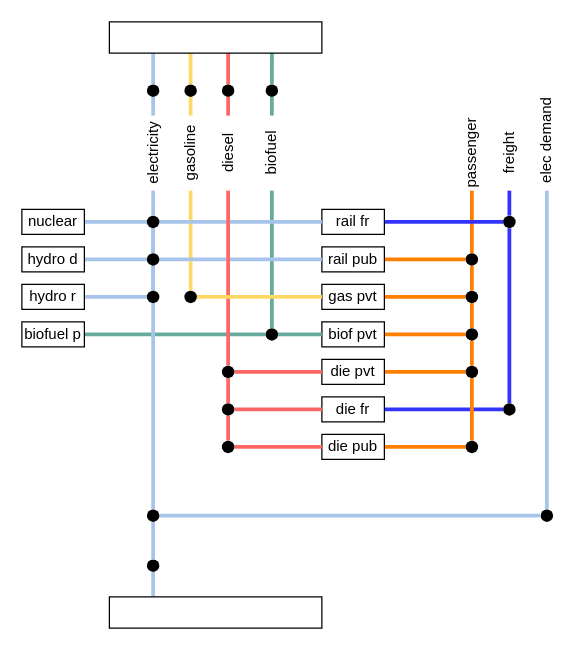
Image size: 588x650. Some labels were removed from this diagram. The shapes that lost their labels are listed below. From the top down, each one's centre as x and y in pixels, then its label:
(215,37): import
(215,612): export
